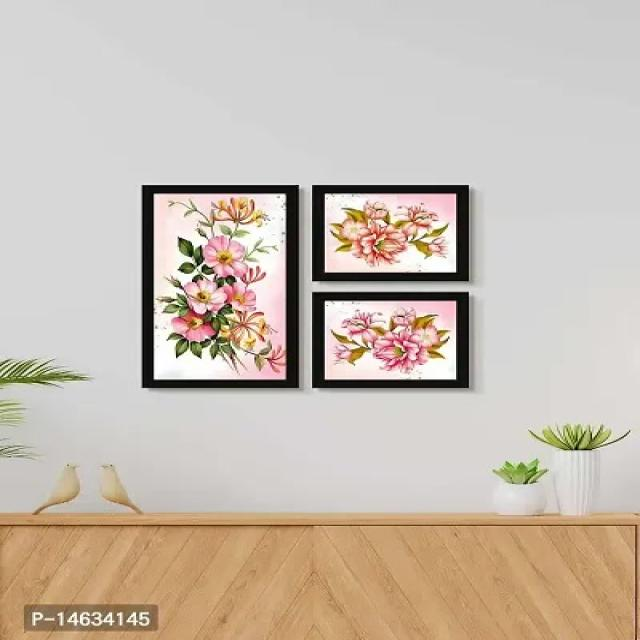painting: (141, 184, 300, 388), (313, 292, 470, 389), (313, 184, 470, 280)
